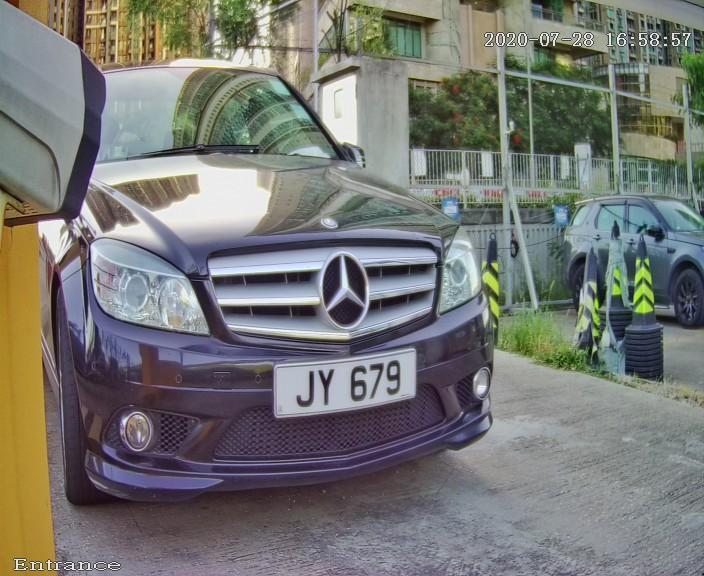privatecar: (13, 19, 604, 530)
